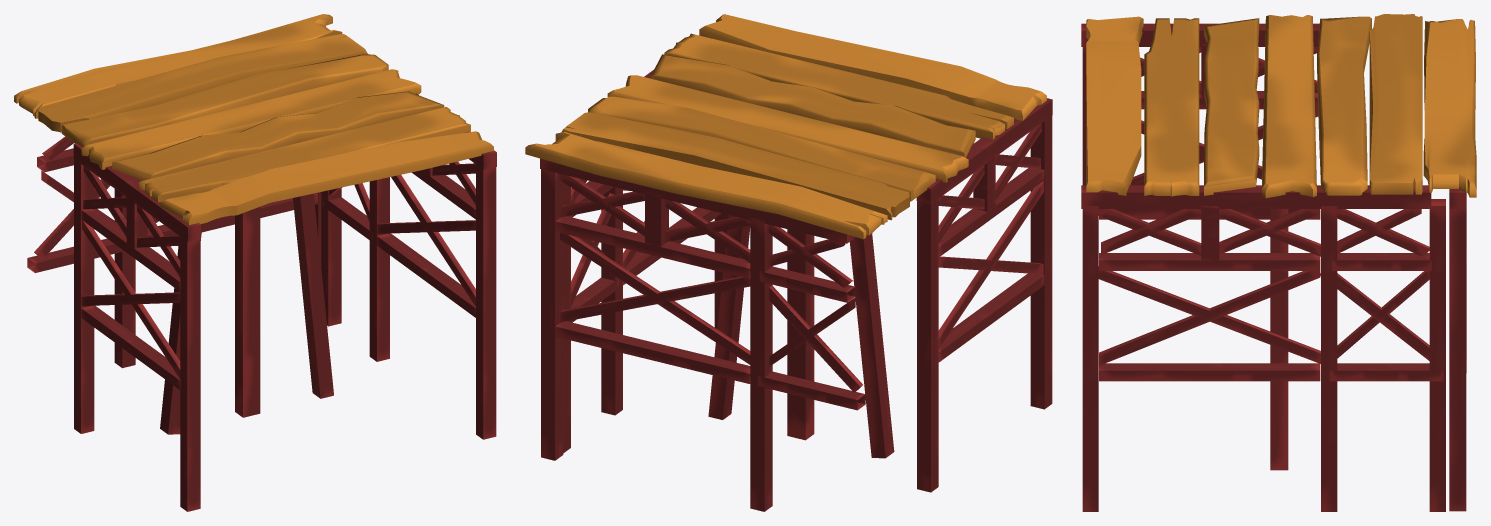
File: Env_Harbor_Prop_PierNoPosts_01.fbx
3 views of the same model, side by side, from view 1: azimuth 30°, elevation 25°; view 2: azimuth 150°, elevation 25°; view 3: azimuth 270°, elevation 25° (orthographic). The views are drawn at different scales.
Parts seen in each view (by area): view 1: polySurface310; view 2: polySurface310; view 3: polySurface310.
Part boxes in pixels (x1,y1,x2,y2): polySurface310: (14, 14, 496, 511); polySurface310: (525, 14, 1052, 511); polySurface310: (1081, 14, 1476, 511).
Size of the model in its own units: 2041 by 1829 by 1937.
